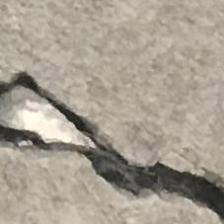Crack: (0, 68, 224, 211)
